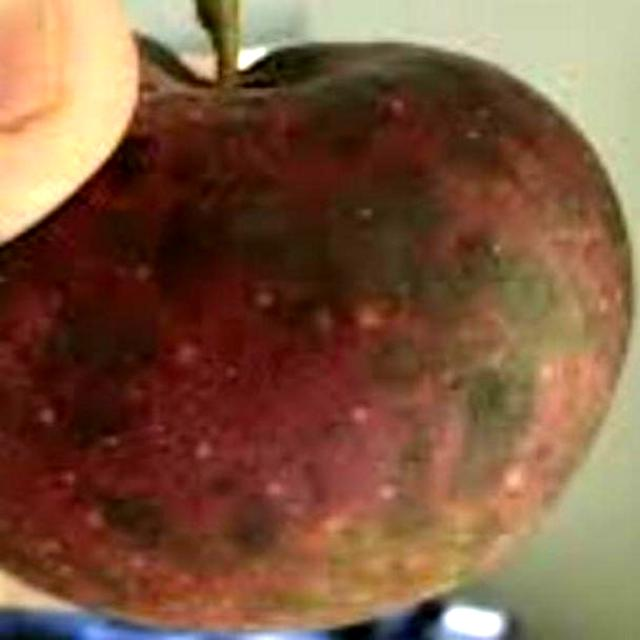BLOTCH: (0, 20, 618, 624)
